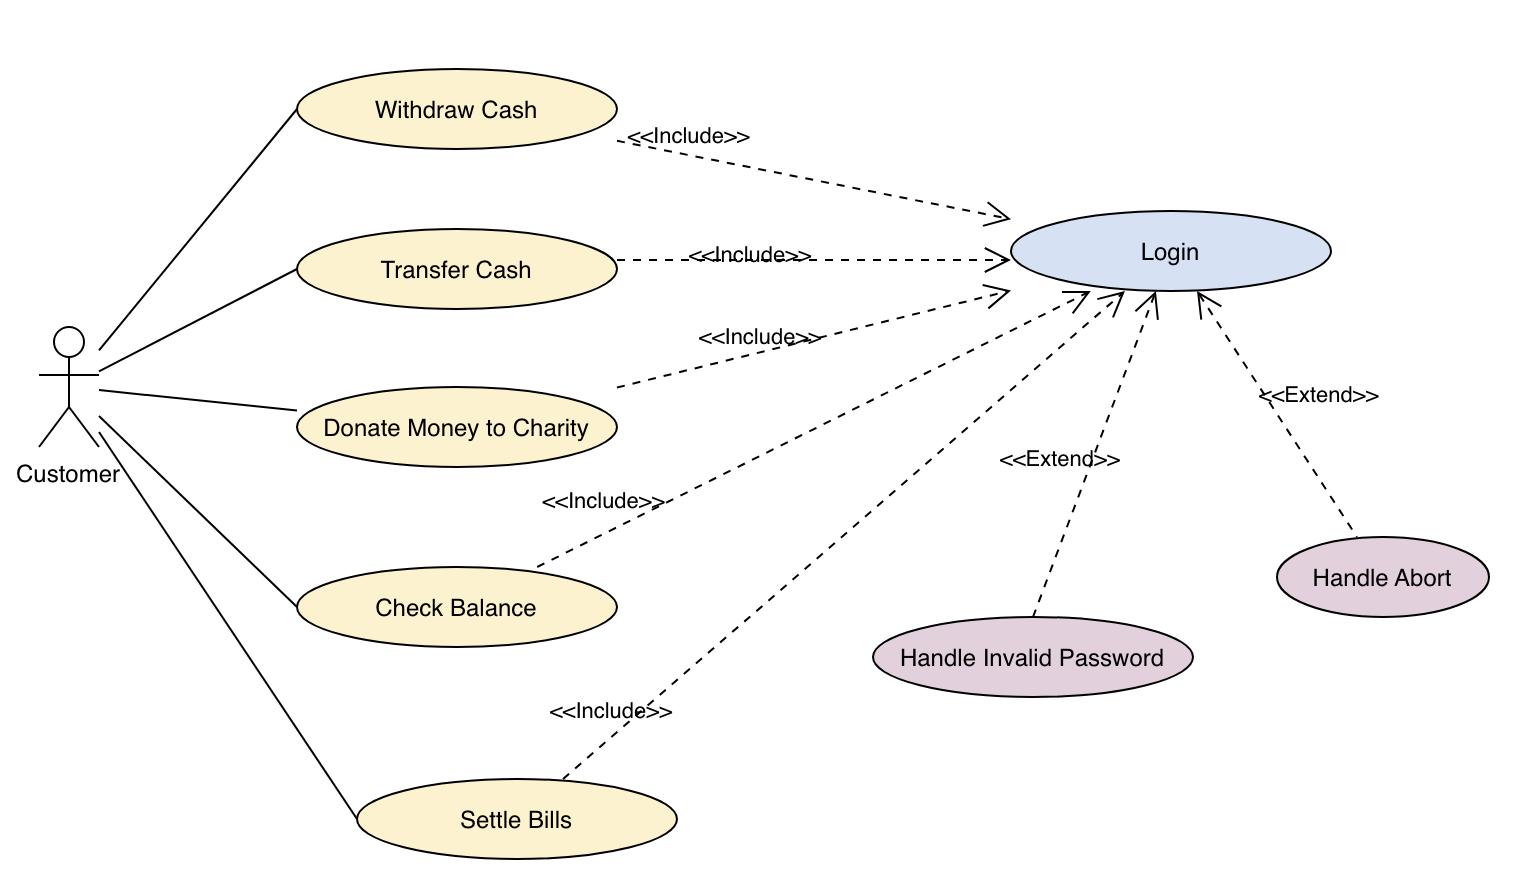actor: (39, 323, 99, 452)
association: (564, 289, 1129, 778), (538, 286, 1095, 572), (99, 436, 357, 822), (100, 105, 295, 352), (620, 280, 1007, 394), (1033, 287, 1161, 611), (98, 413, 298, 611), (1195, 288, 1355, 534), (613, 136, 1013, 231), (99, 268, 299, 372), (618, 246, 1011, 274), (100, 383, 296, 415)
text: (899, 639, 1170, 671), (318, 415, 598, 445), (365, 87, 544, 131), (1295, 558, 1461, 595), (375, 253, 544, 288), (368, 594, 550, 626), (448, 802, 583, 841), (538, 478, 667, 516), (1252, 379, 1389, 415), (1114, 234, 1225, 271), (995, 438, 1123, 469), (543, 696, 682, 723), (701, 321, 827, 351), (12, 458, 125, 491), (683, 238, 825, 263), (624, 123, 752, 149)
use_case: (1008, 204, 1335, 294), (293, 65, 618, 154), (295, 563, 620, 652), (350, 775, 678, 864), (870, 614, 1193, 701), (296, 226, 615, 312), (294, 387, 617, 471), (1273, 534, 1489, 620)
